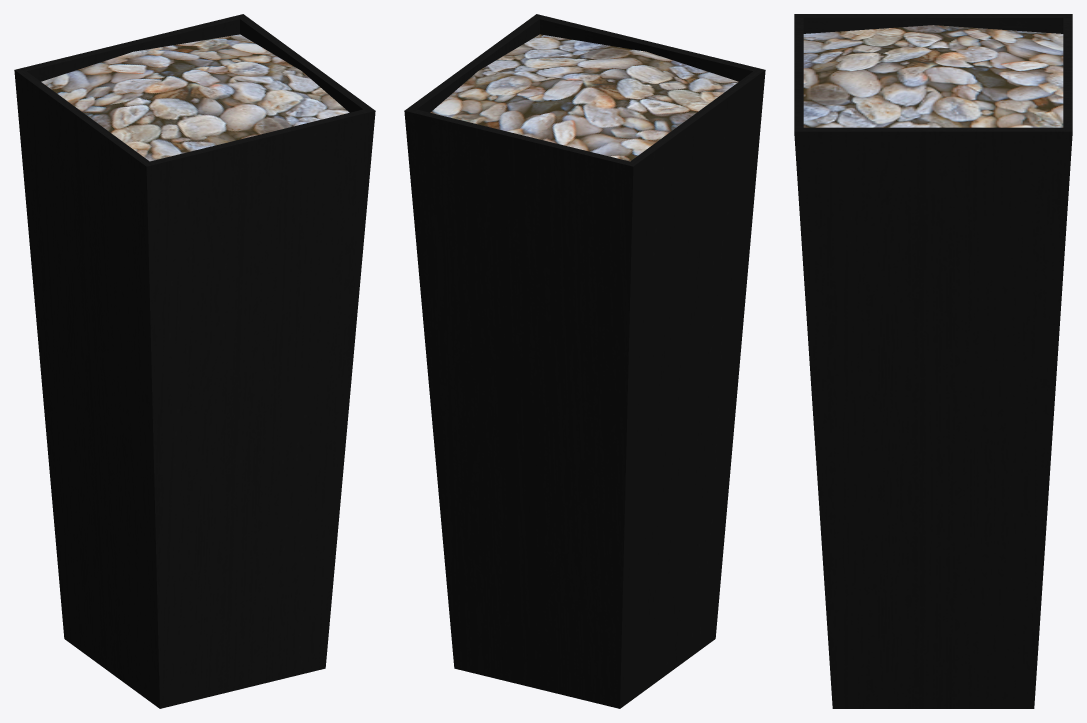
The model's file is Modified plant.fbx.
3 renders of one model, left to right at view 1: azimuth 30°, elevation 25°; view 2: azimuth 150°, elevation 25°; view 3: azimuth 270°, elevation 25°, orthographic. The views are drawn at different scales.
Visible parts, largest first — view 1: Object002; view 2: Object002; view 3: Object002.
Part boxes in pixels (x1,y1,x2,y2): Object002: (14, 14, 375, 708); Object002: (404, 14, 765, 708); Object002: (794, 14, 1072, 708).
Size of what is drawn, in the model's own units: 0.2359 by 0.5611 by 0.2359.
